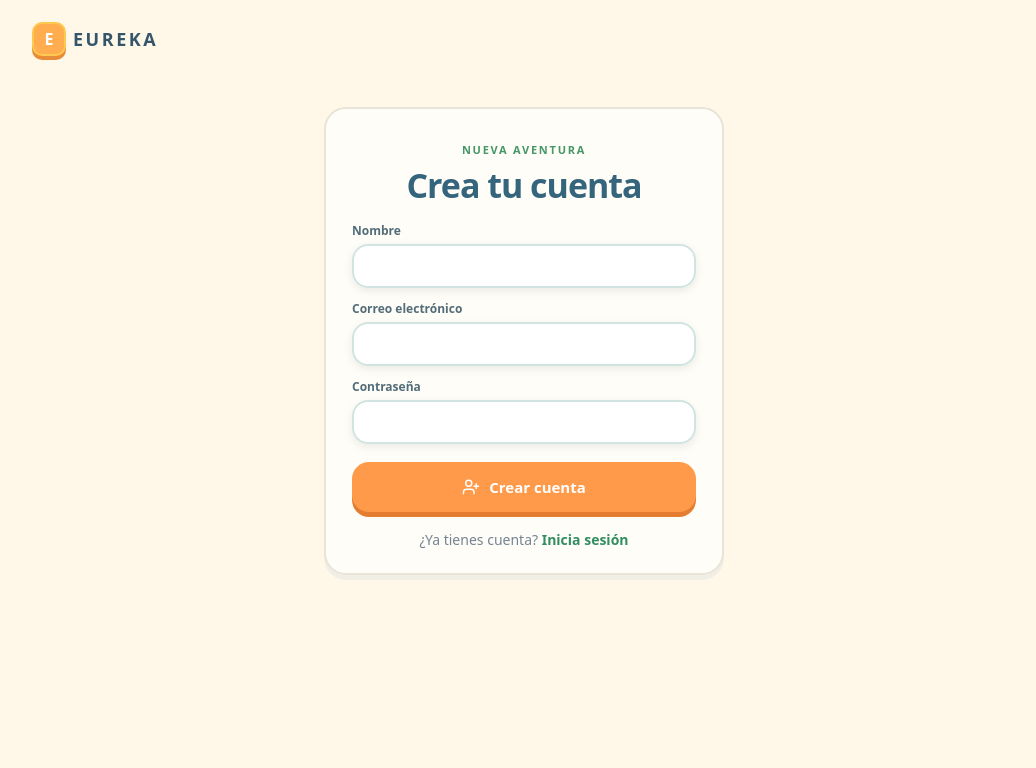
Scenario: registro › muestra el error del servidor (correo ya registrado) y no inicia sesión
The image size is (1036, 768).
Type "Ana" into the field labelled "Nombre".
click(524, 266); type("Ana")  # box [352,244,696,288]
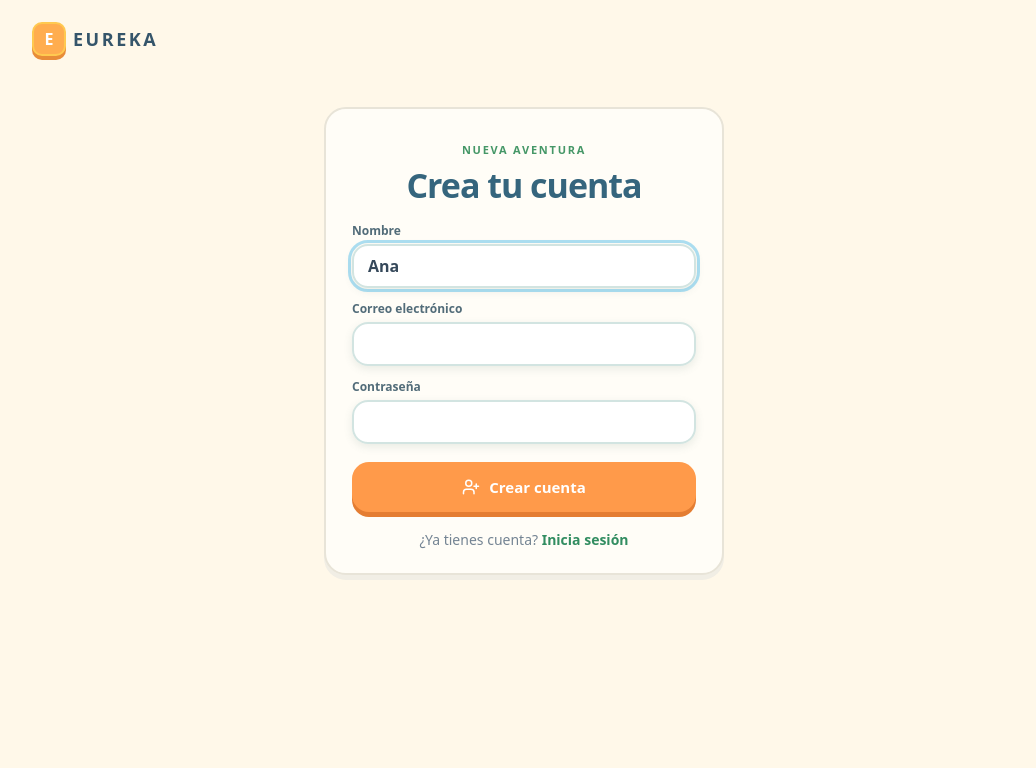
Type "ana@example.com" into the field labelled "Correo electrónico".
click(524, 344); type("ana@example.com")  # box [352,322,696,366]
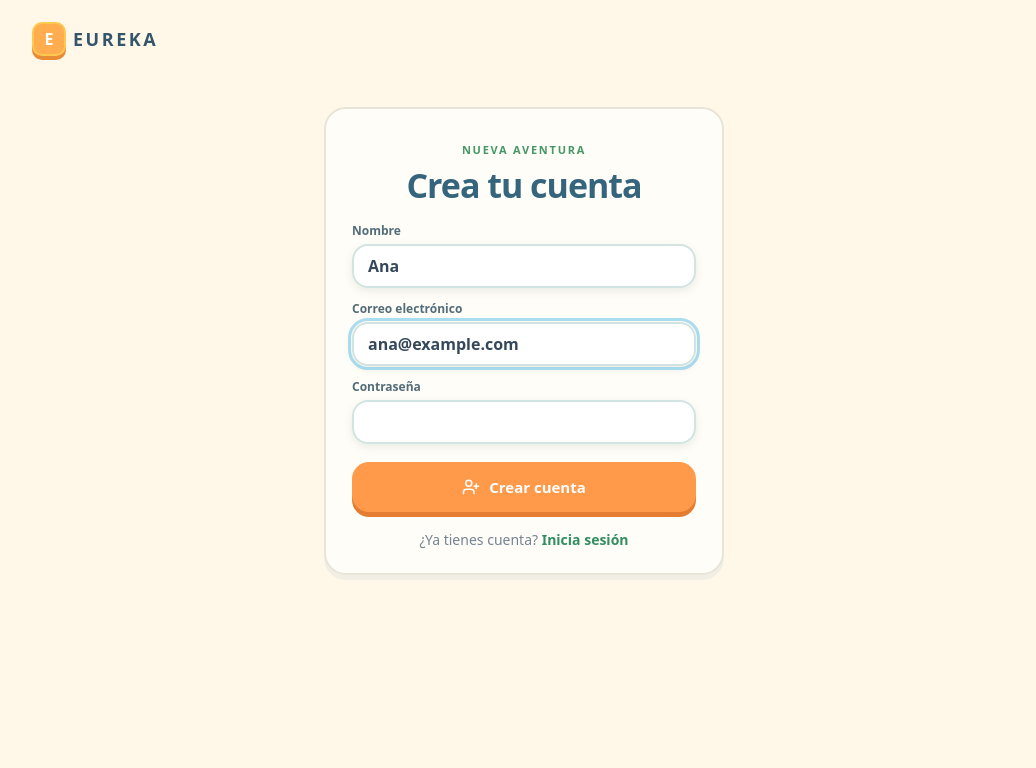
Type "correct-horse-battery" into the password field labelled "Contraseña".
click(524, 422); type("correct-horse-battery")  # box [352,400,696,444]
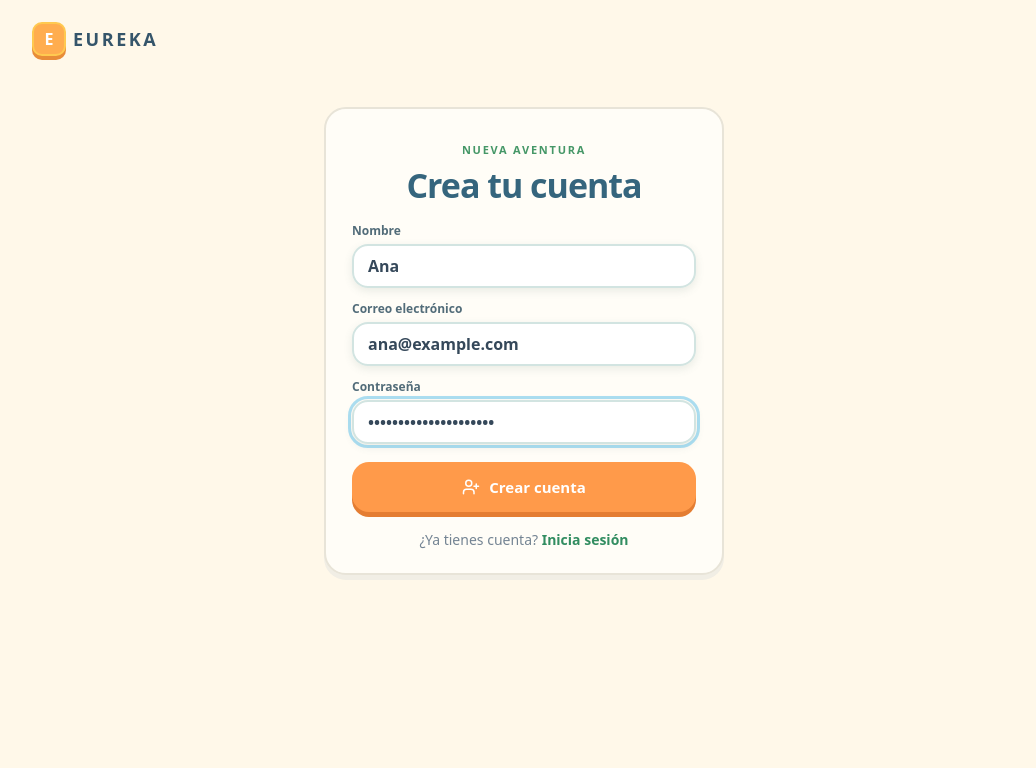
Click the button "Crear cuenta".
click(524, 487)  # box [352,462,696,512]
(page scrolled)
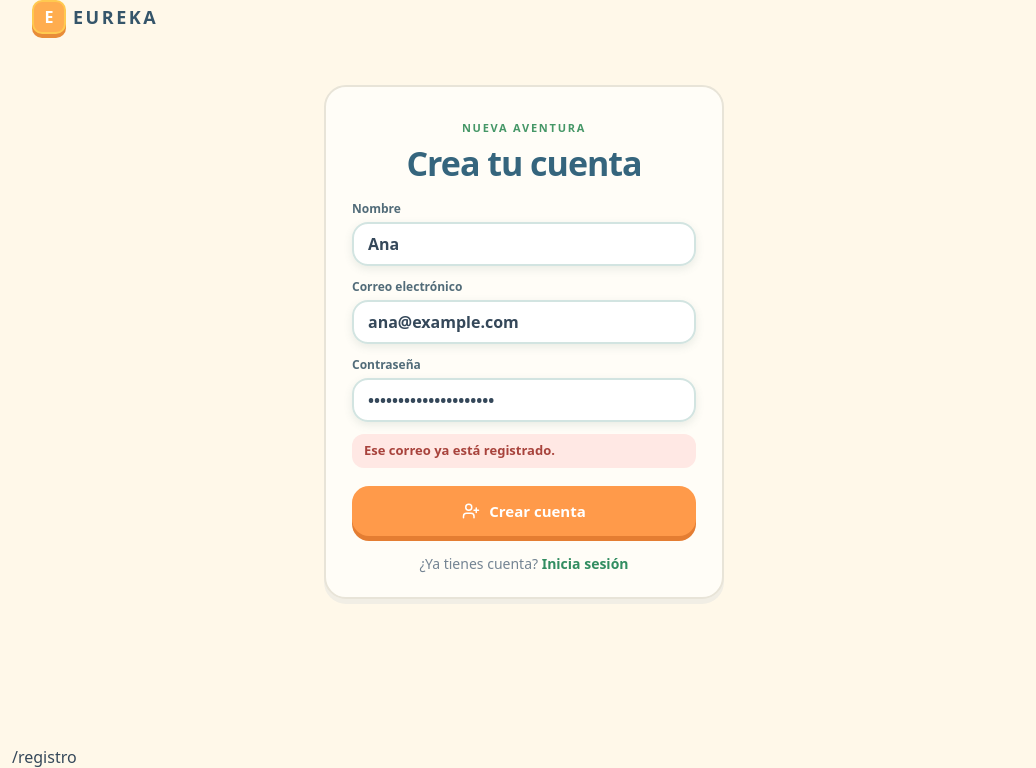
Check: the text with test id "location" reads "/registro", box [12,746,77,767]
Check: the message reads "Ese correo ya está registrado.", box [364,441,555,459]
